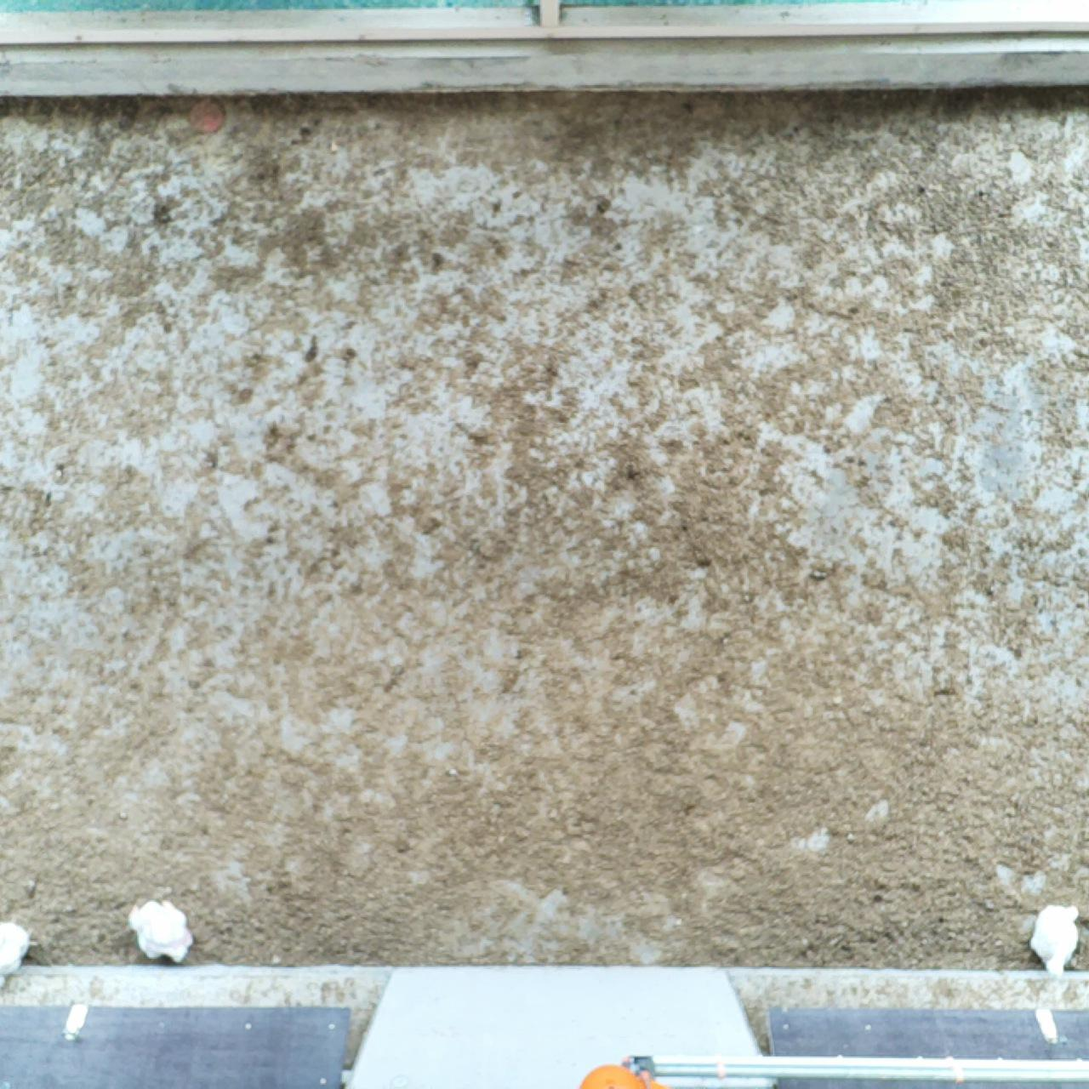chicken: (125, 892, 200, 967), (1020, 896, 1085, 977), (0, 916, 34, 992)
